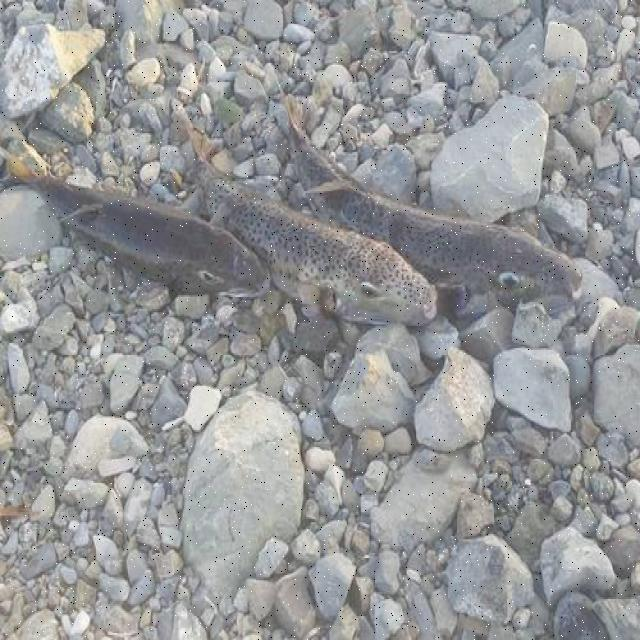Balik: (286, 96, 581, 314), (198, 163, 436, 325), (3, 152, 268, 296)
